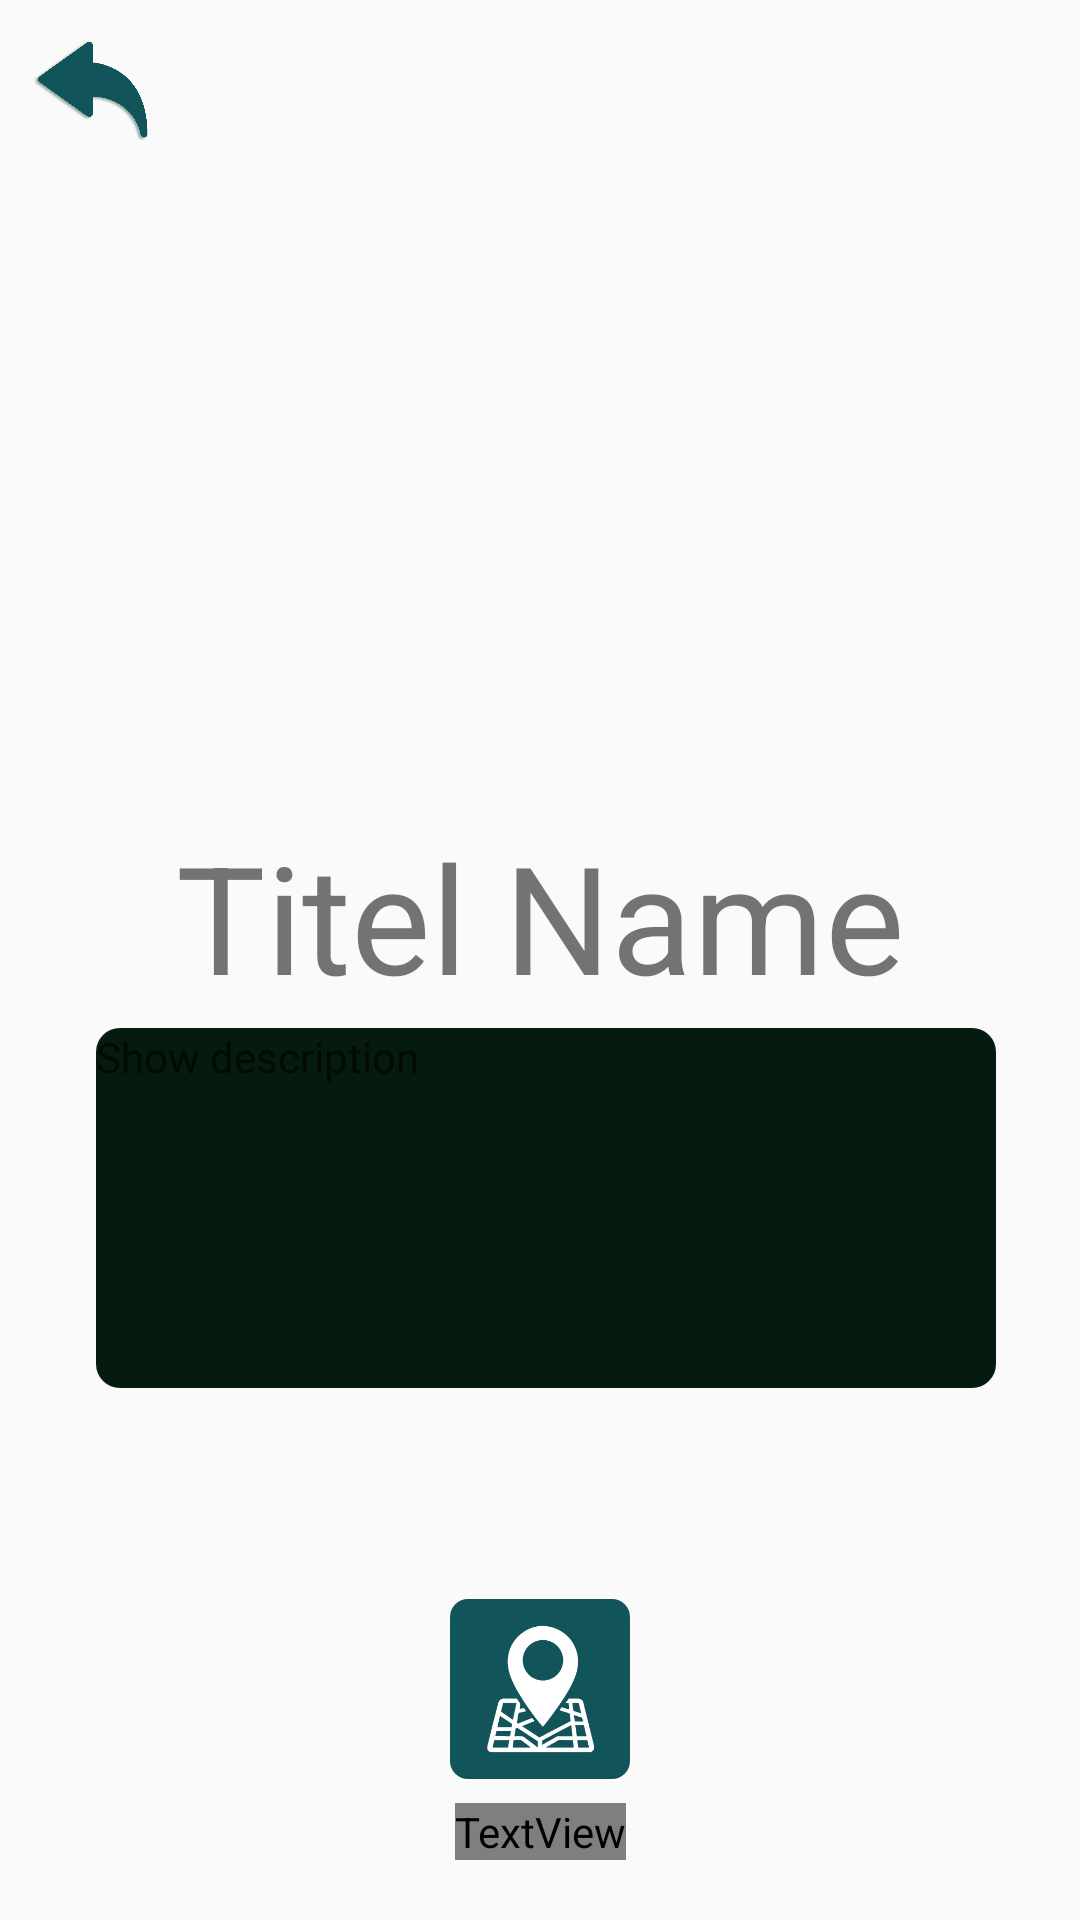

Icon bounding boxes for this 1080px×1920px phone screenshot, format [x1=x1, y1=y1, x2=x2, y2=y2]:
back arrow: [x1=35, y1=42, x2=148, y2=140]
show gps medium: [x1=450, y1=1599, x2=630, y2=1779]
